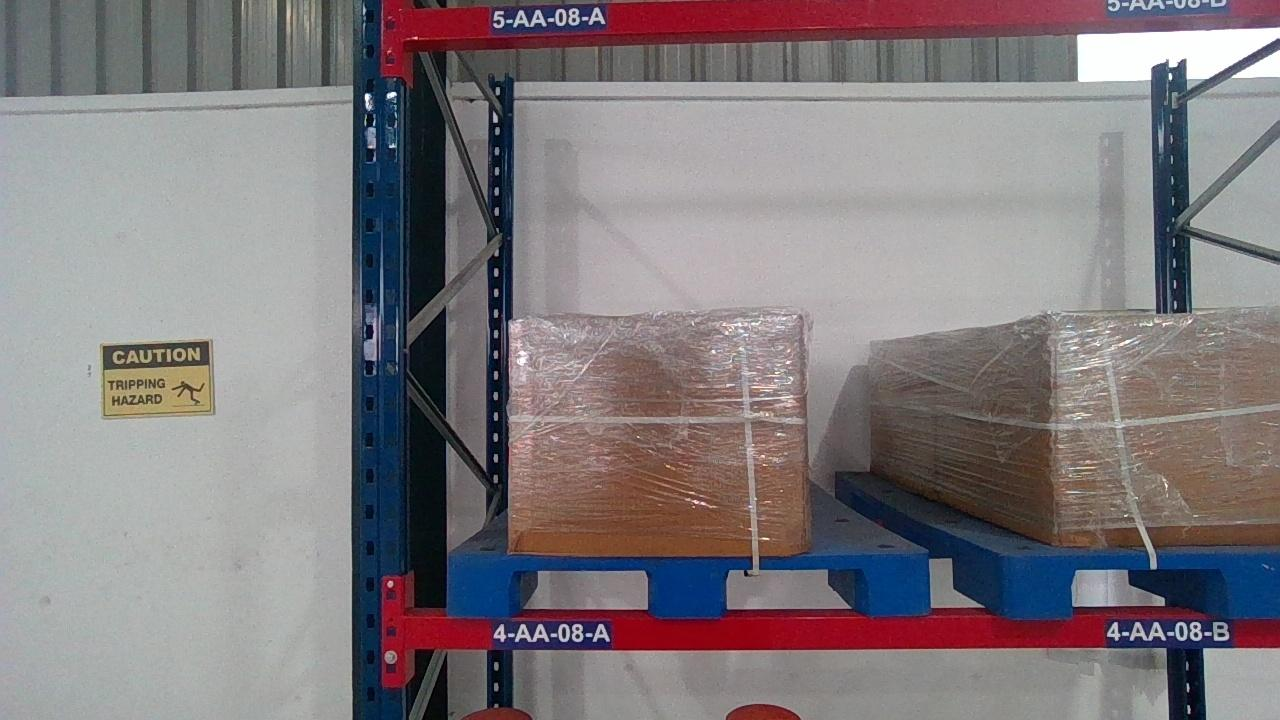h_rack: (400, 0, 1273, 40), (408, 612, 1277, 647)
small_pallet: (444, 555, 936, 614), (1005, 554, 1279, 613)
